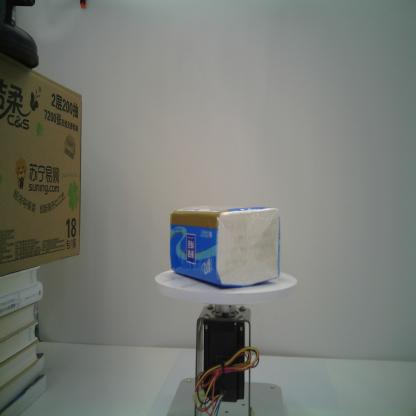Tissue: (169, 205, 280, 288)
